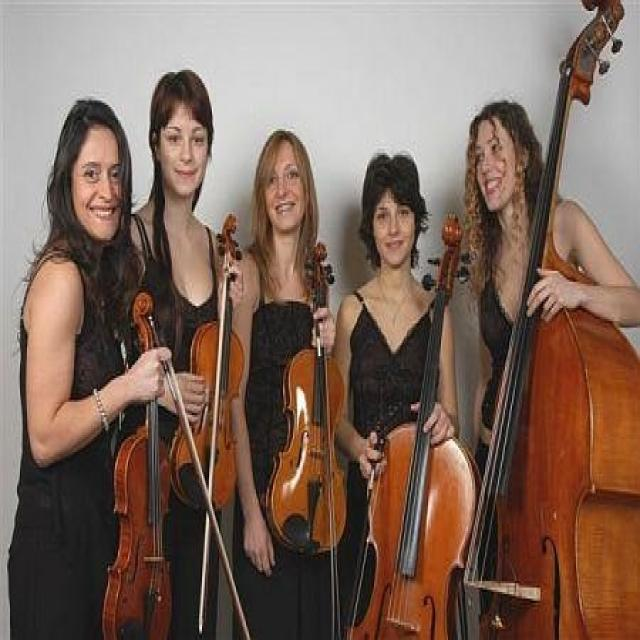cello: (340, 212, 484, 638)
violin: (264, 238, 349, 558), (98, 291, 176, 637), (168, 210, 249, 508)
